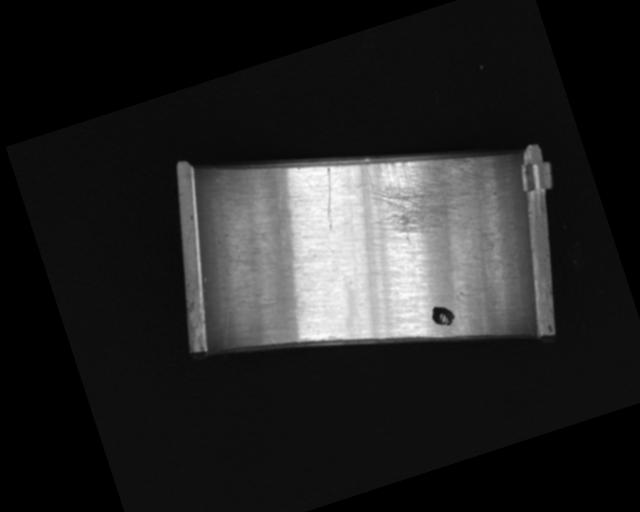blot: (428, 301, 457, 330)
nick: (197, 250, 269, 351), (309, 167, 348, 234)
scratch: (358, 129, 491, 249)
